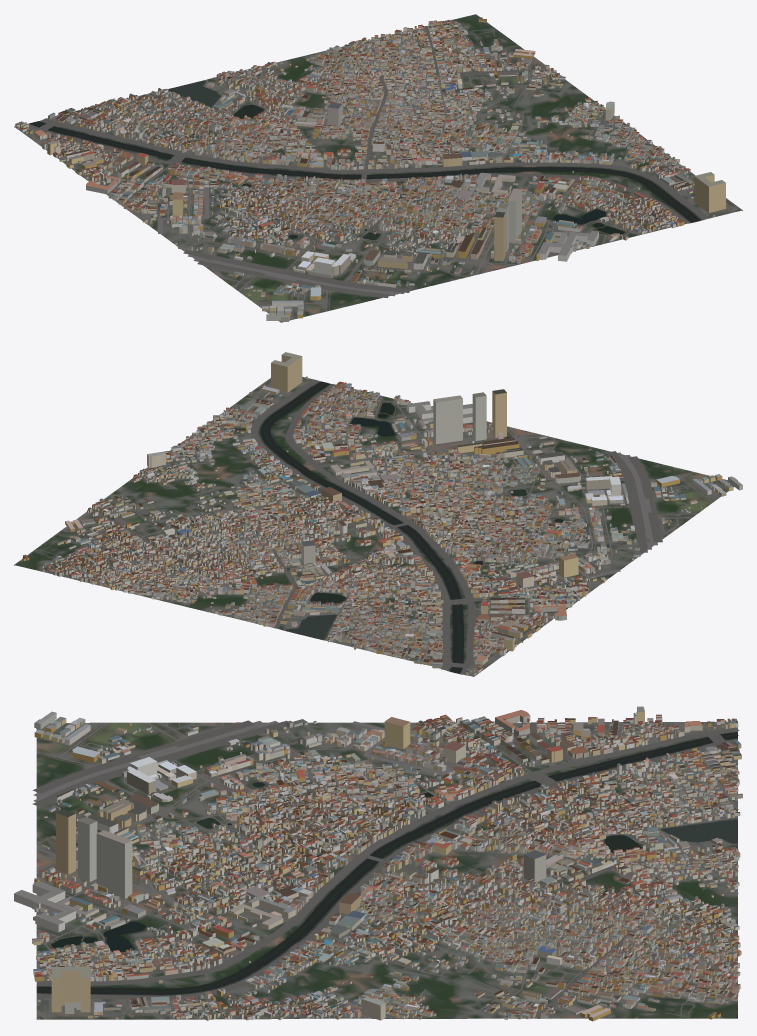
3 views of the same model, one above another, from view 1: azimuth 30°, elevation 25°; view 2: azimuth 150°, elevation 25°; view 3: azimuth 270°, elevation 25° (orthographic). The views are drawn at different scales.
Visible parts, largest first — view 1: buildings, ground, roads, water; view 2: buildings, ground, roads, water; view 3: buildings, ground, roads, water.
Part boxes in pixels (x1=…): buildings: x1=15, y1=17, x2=725, y2=321; ground: x1=14, y1=14, x2=742, y2=322; roads: x1=25, y1=22, x2=741, y2=322; water: x1=29, y1=80, x2=700, y2=260; buildings: x1=22, y1=352, x2=742, y2=676; ground: x1=14, y1=376, x2=734, y2=676; roads: x1=35, y1=379, x2=727, y2=674; water: x1=260, y1=381, x2=563, y2=673; buildings: x1=14, y1=706, x2=742, y2=1021; ground: x1=36, y1=722, x2=737, y2=1019; roads: x1=32, y1=720, x2=739, y2=1019; water: x1=36, y1=732, x2=738, y2=994.
Bounding box in the file's own units: 1445 × 131 × 1457.
